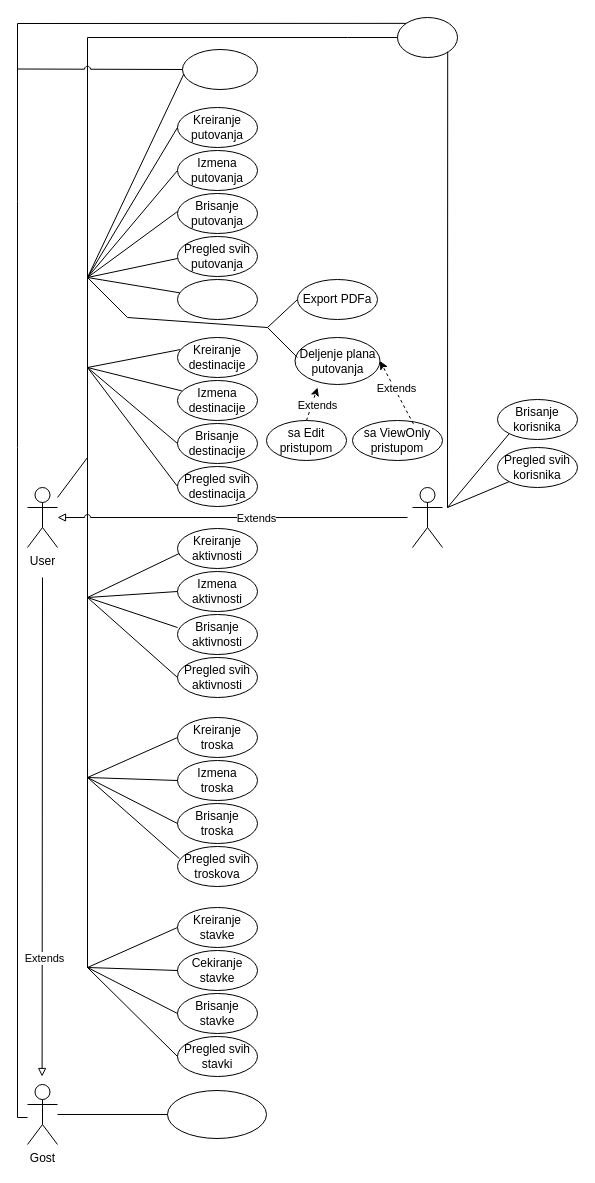
The diagram is 595 pixels wide and 1183 high, and some of its shapes have lost their labels. Here are the shapes that lost their labels. From the top down, the centre of each, then its label:
[427,37]: Login
[220,69]: Registracija
[217,299]: Pregled putovanja
[427,517]: Admin
[216,1114]: Pregled deljenog plana
